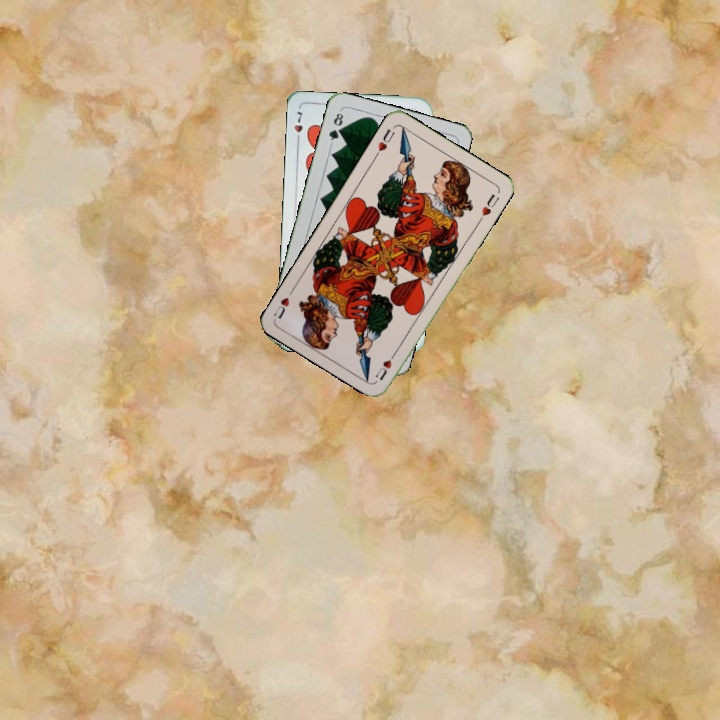G8: (325, 107, 346, 147)
H7: (290, 107, 305, 146)
HU: (371, 347, 400, 383), (371, 125, 397, 160)
